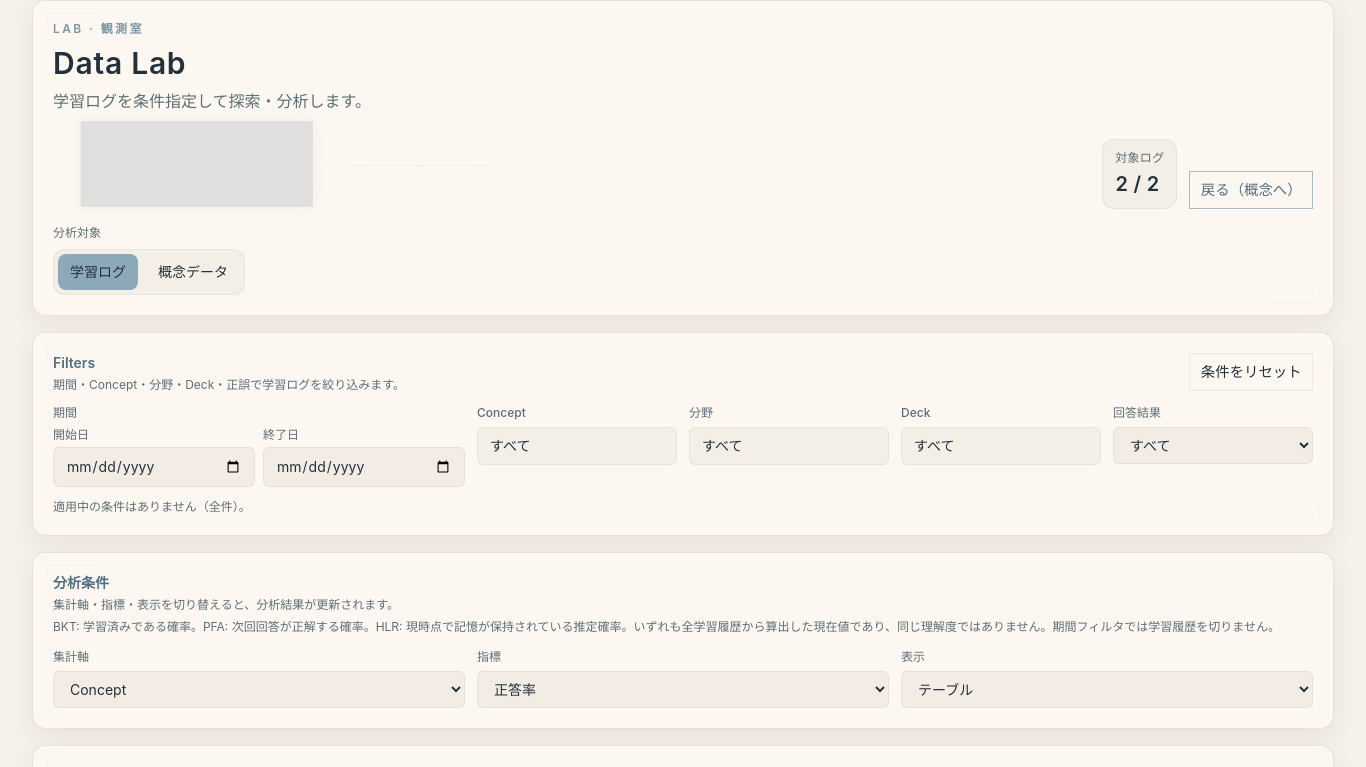
Test: DataLabView (#89 / #90) › groupBy を変えるとエクスポートの集計軸表示も変わる
Select "分野" in the dropdown labelled "集計軸" at point(259, 689), box [53, 670, 465, 708]
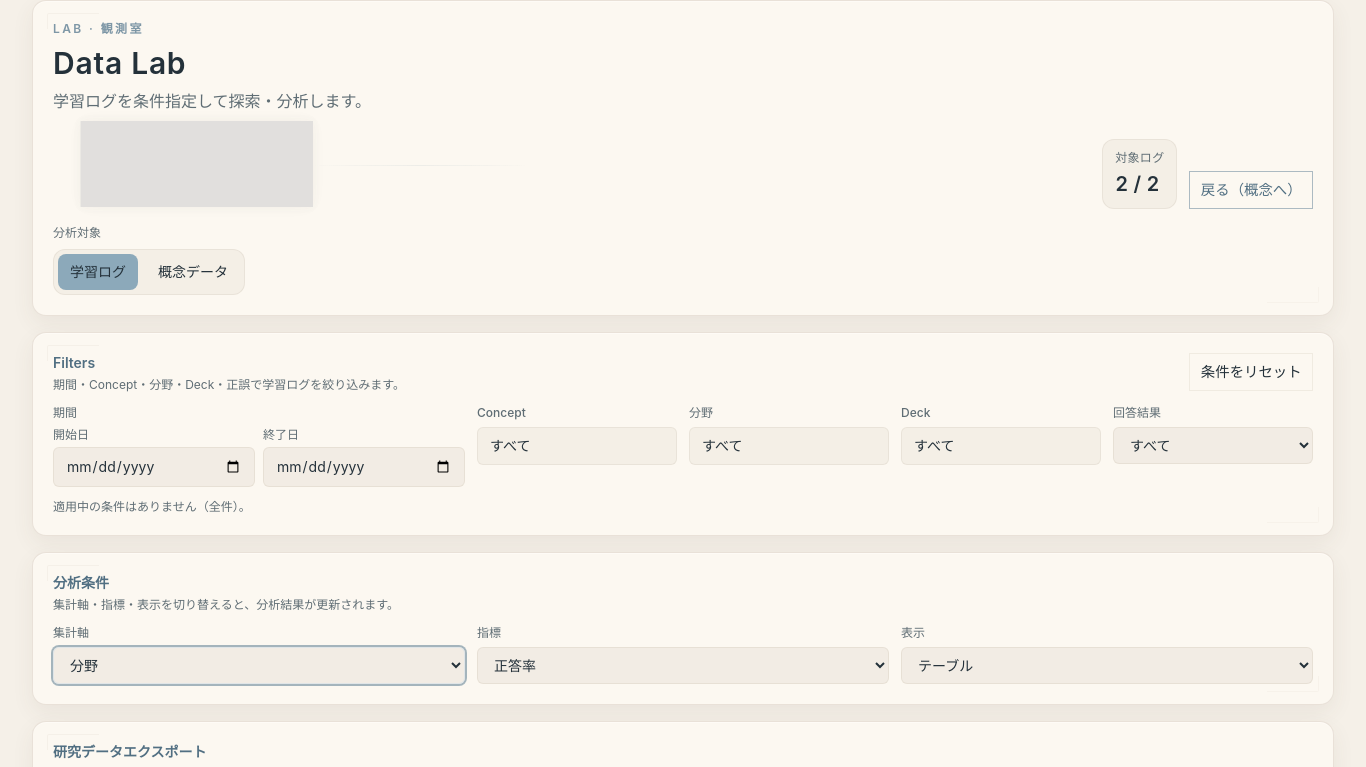
Select "Deck" in the dropdown labelled "集計軸" at point(259, 666), box [53, 647, 465, 684]
(page scrolled)
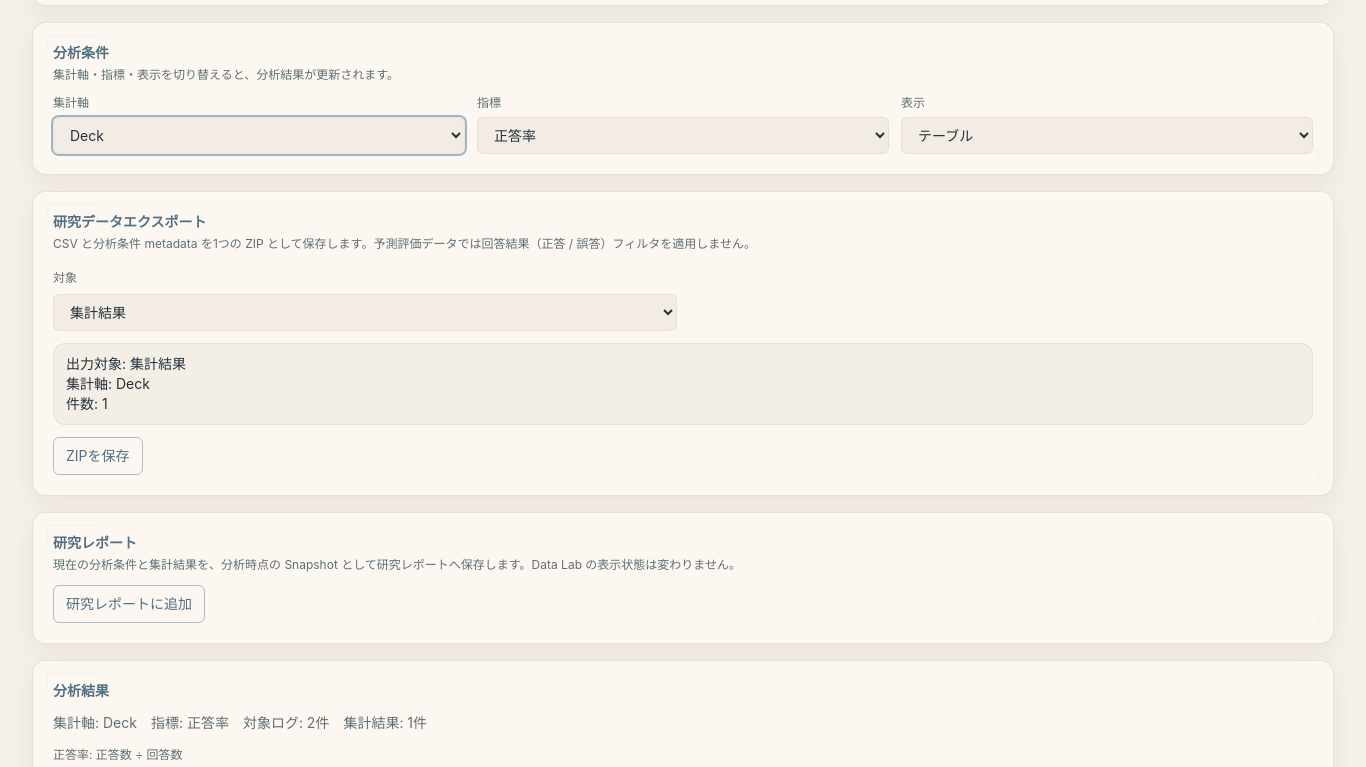
Result: the element with test id "data-lab-export-summary" shows "集計軸: Deck" at [53, 343, 1313, 425]
